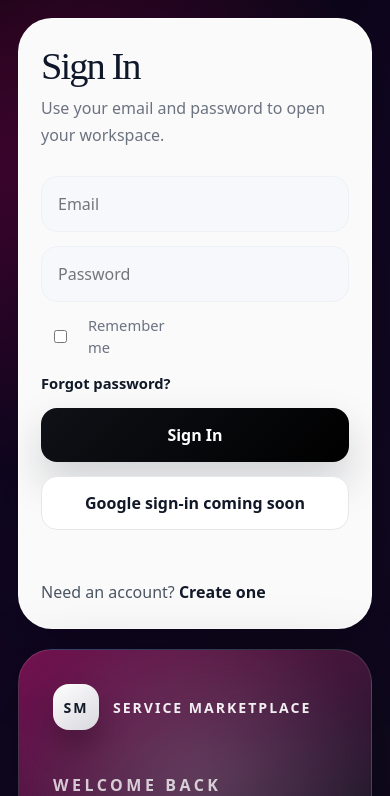
Test case: shows an error message when login fails
Type "worker1@test.com" into the field with placeholder "Email" at [195, 204], box [41,176,349,232]
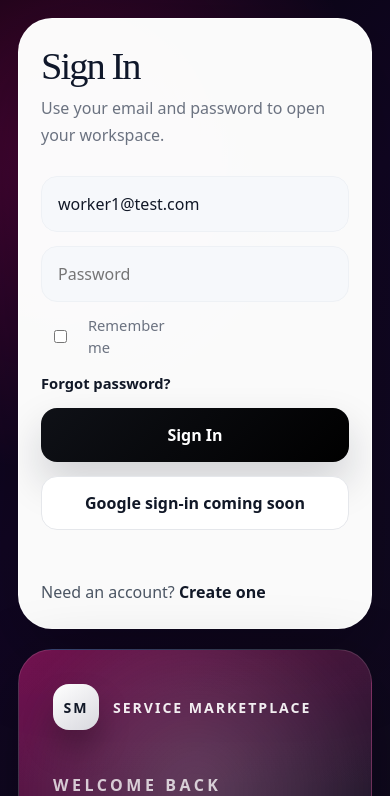
Type "wrong-password" into the password field with placeholder "Password" at [195, 274], box [41,246,349,302]
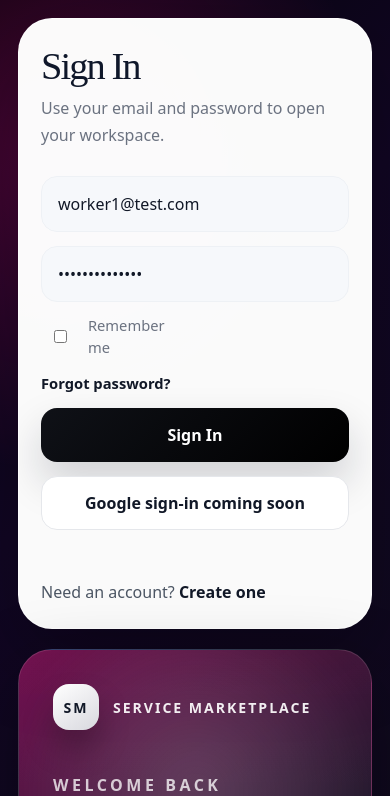
Click the button "Sign In" at [195, 435], box [41,408,349,462]
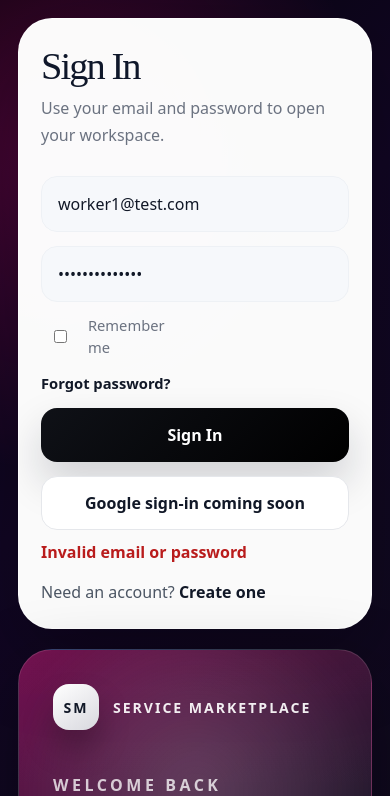
Expected: the text "Invalid email or password" is shown, [41,541,247,563]
